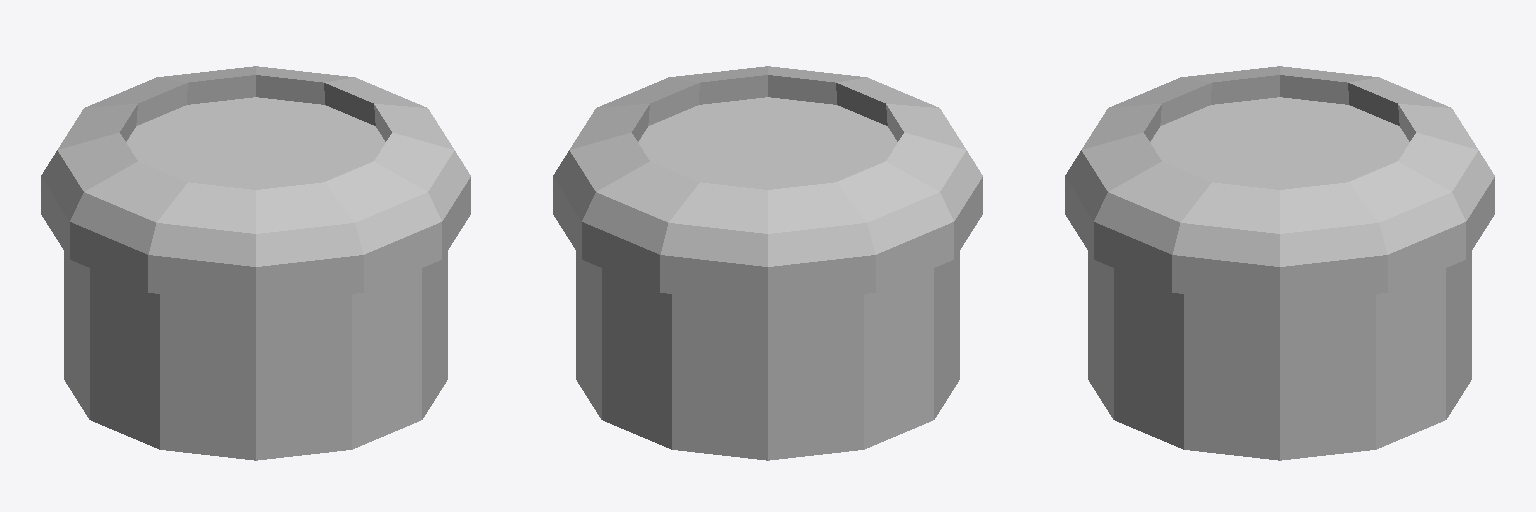
Rendered from Piston.obj.
The picture shows the model from 3 angles: view 1: azimuth 30°, elevation 25°; view 2: azimuth 150°, elevation 25°; view 3: azimuth 270°, elevation 25°; orthographic projection.
Size of the model in its own units: 7.23 by 4.58 by 7.23.